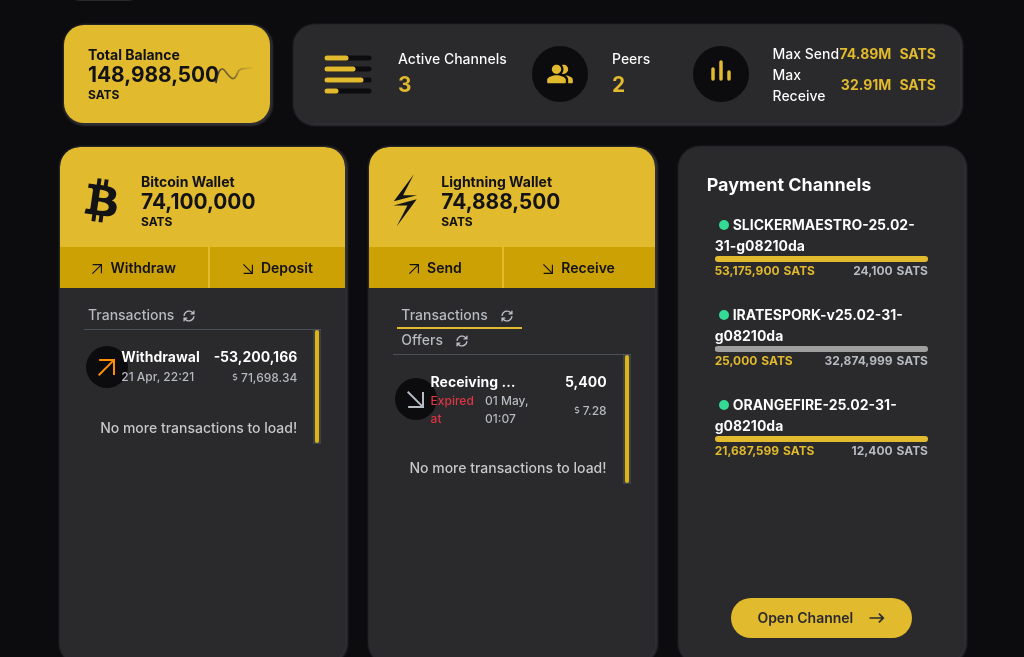
it: CLNSend component › should not pay an offer invoice whose amount differs from the requested amount
Click the button with test id "send-button" at (435, 267), box [369,247,502,288]
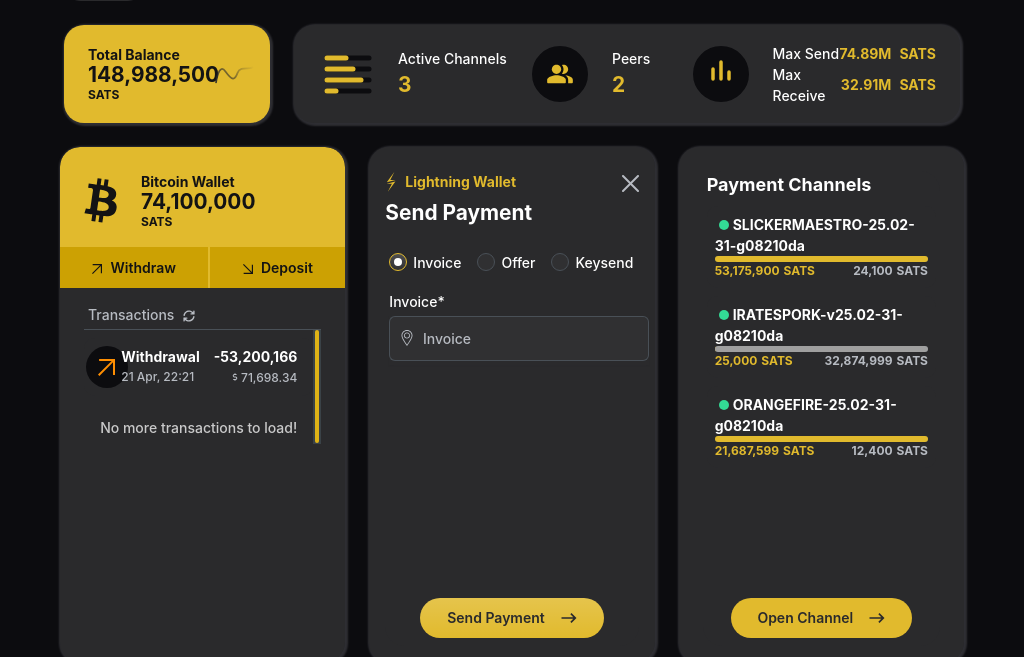
Click the radio button labelled "Offer" at (486, 262), box [477,252,495,270]
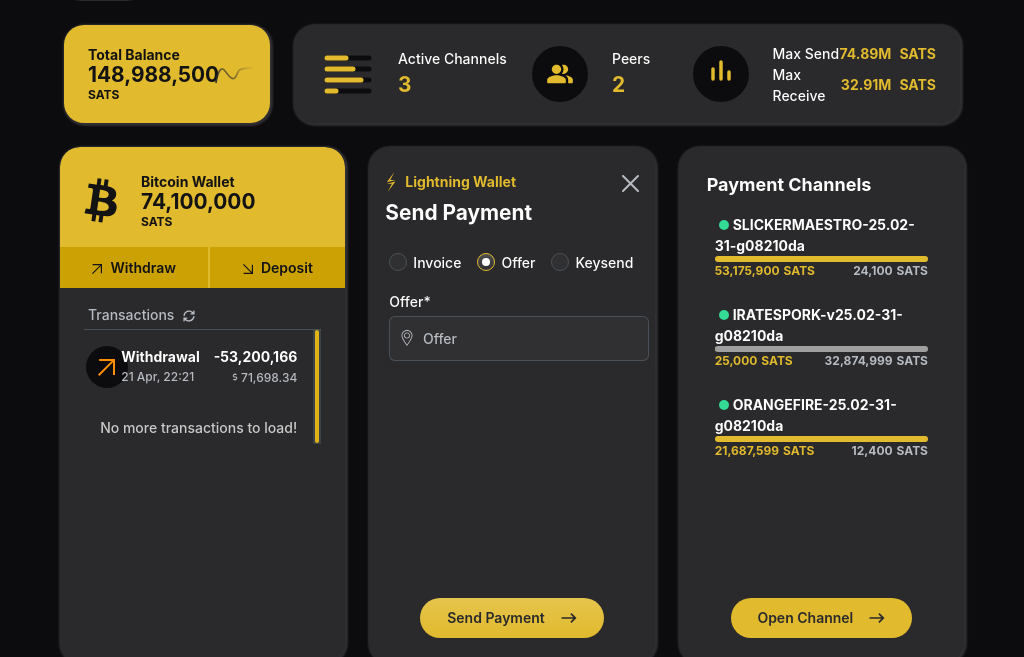
Type "lno12345" into the field with test id "address-input" at (536, 338), box [423,316,649,361]
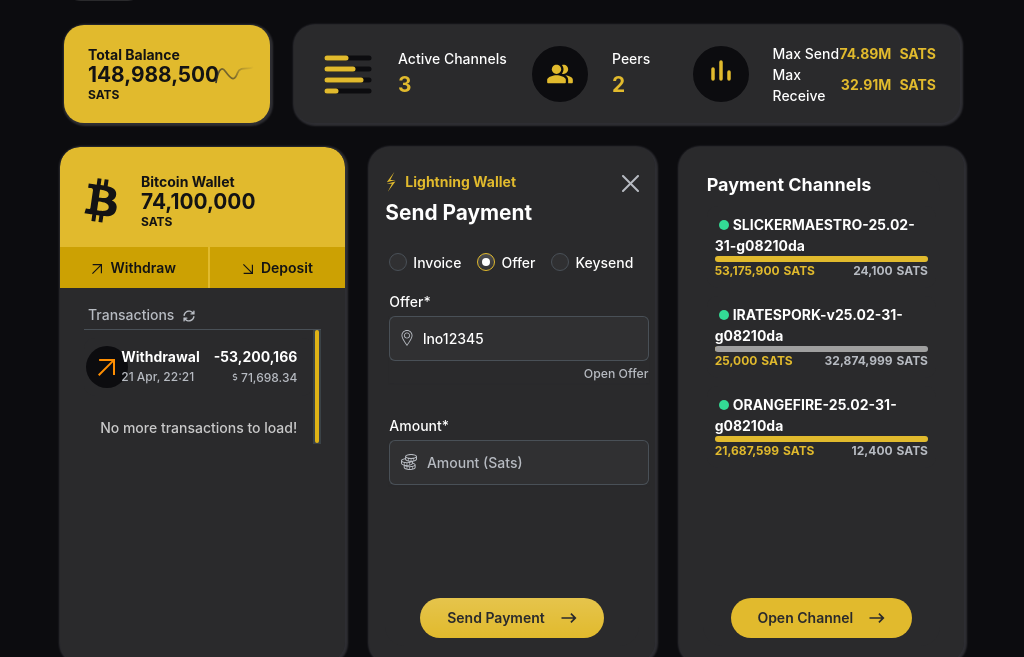
Now the number field with test id "amount-input" is shown
Type "100" into the number field with test id "amount-input" at (538, 462), box [427,440,649,485]
(page scrolled)
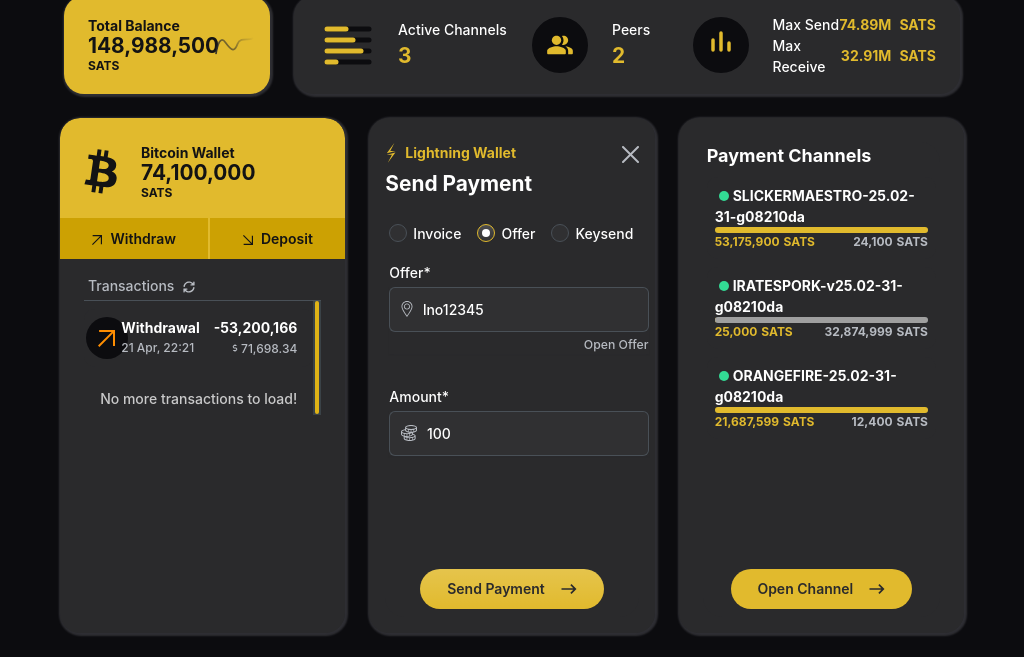
Submit the form with test id "cln-send", box [369,118,655,632]
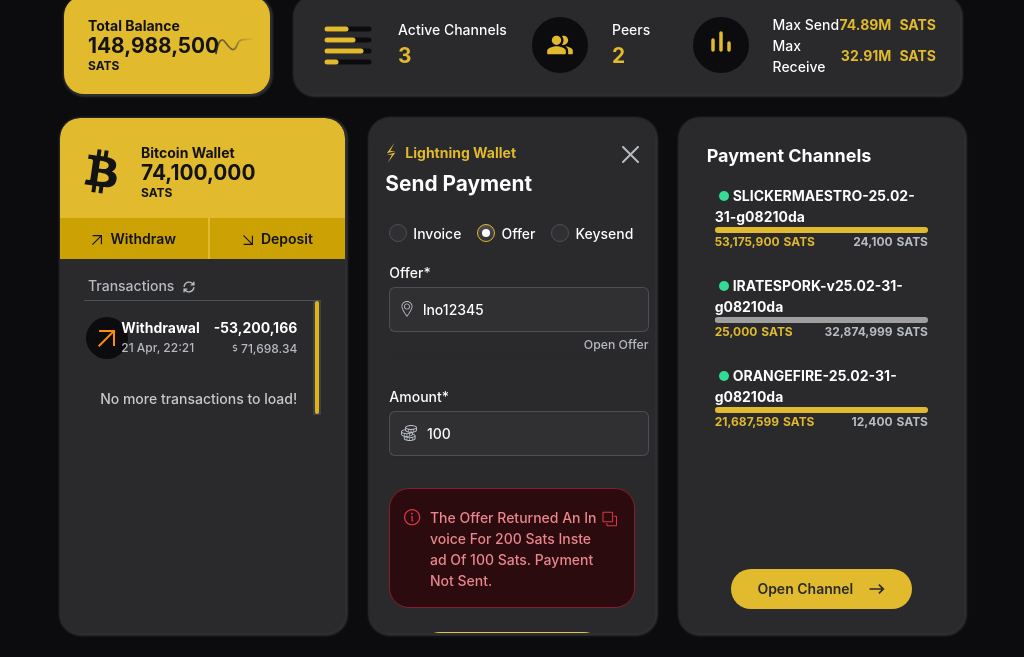
Now the text with test id "status-alert-message" shows "200 Sats Instead Of 100 Sats. Payment Not Sent", box [430,509,596,589]
